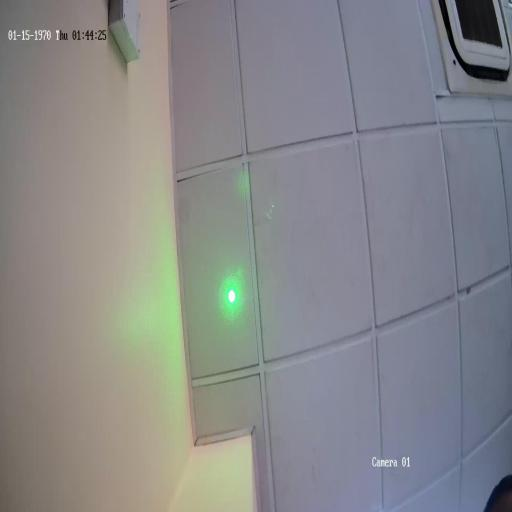laser: (217, 270, 247, 320)
